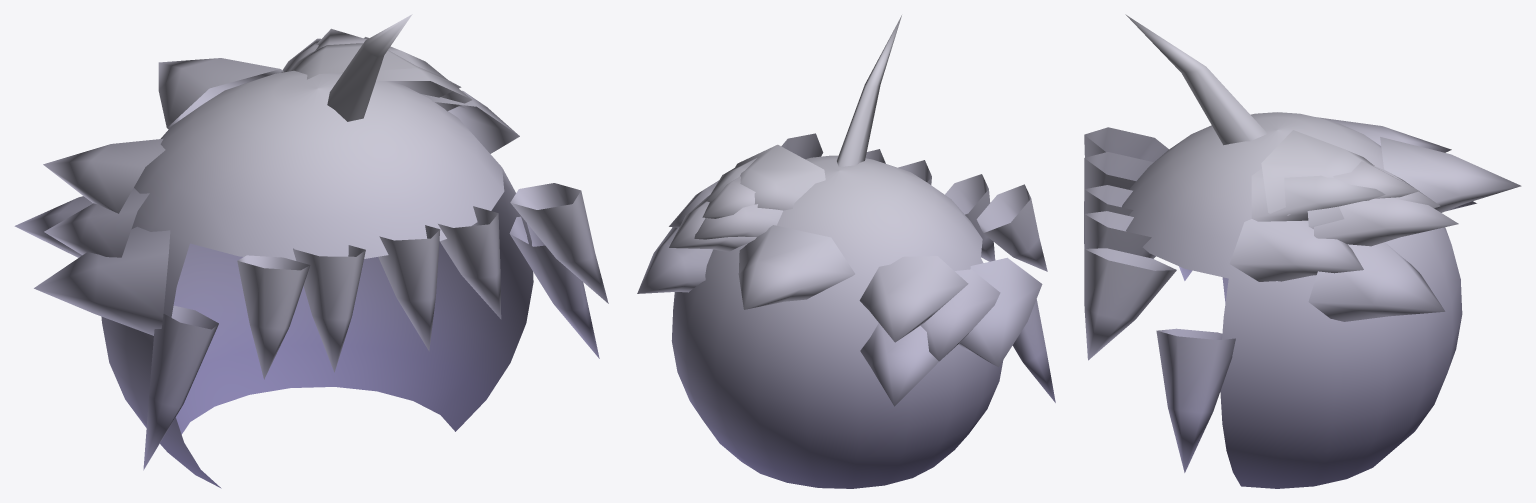
File: cel_hair.glb
The picture shows the model from 3 angles, left to right: view 1: azimuth 30°, elevation 25°; view 2: azimuth 150°, elevation 25°; view 3: azimuth 270°, elevation 25°; orthographic projection. The views are drawn at different scales.
Parts seen in each view (by area): view 1: cel_hair; view 2: cel_hair; view 3: cel_hair.
Boxes of the visible parts, x1=… form: cel_hair: x1=14, y1=14, x2=608, y2=488; cel_hair: x1=637, y1=15, x2=1055, y2=488; cel_hair: x1=1084, y1=14, x2=1521, y2=488.
Bounding box in the file's own units: 1.48 × 1.47 × 1.37.
